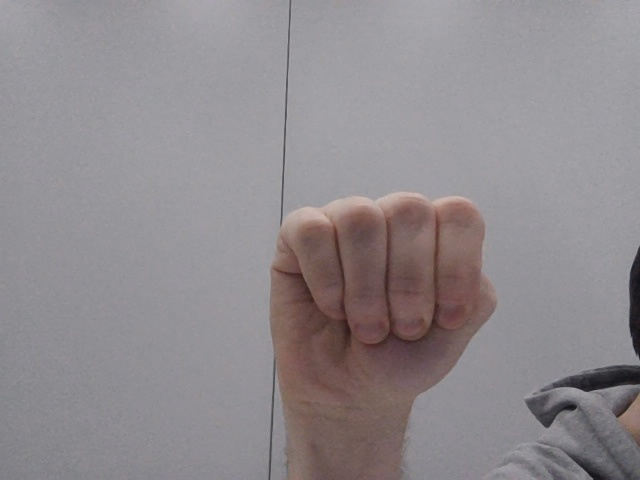down: (244, 179, 538, 429)
